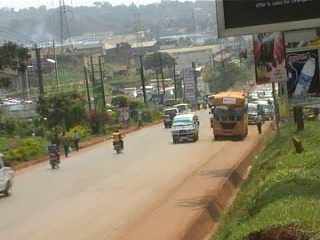Car: (161, 106, 177, 131)
Motorcycle: (47, 144, 61, 171), (110, 133, 125, 156)
